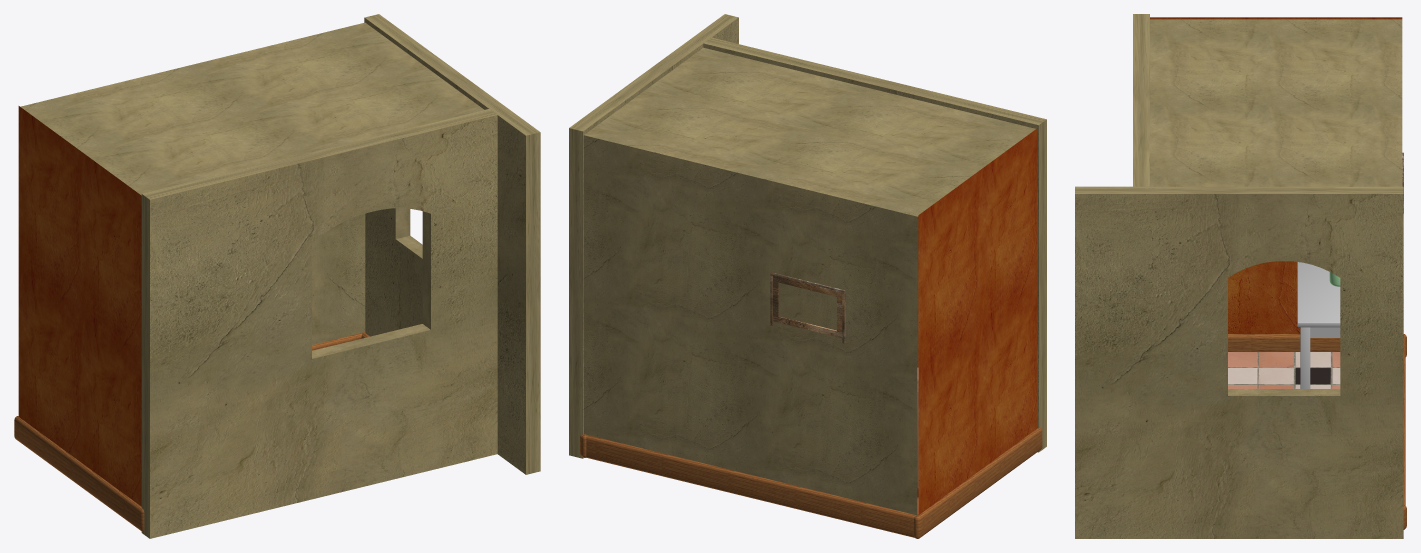
Rendered from Deadnature4.gltf.
The picture shows the model from 3 angles, left to right: view 1: azimuth 30°, elevation 25°; view 2: azimuth 150°, elevation 25°; view 3: azimuth 270°, elevation 25°; orthographic projection. The views are drawn at different scales.
Parts seen in each view (by area): view 1: Box010, Box001, Object022, Box003, ChamferBox008; view 2: Box001, Object022, Box003, ChamferBox006, Box010, ChamferBox008, Rectangle0; view 3: Box003, Box001, Object022, Floor, Box010, ChamferBox001, ChamferBox008, ChamferBox004, ChamferBox006.
Boxes of the visible parts, x1,y1,x2,y2 form: Box010: [141, 109, 497, 538]; Box001: [20, 22, 484, 344]; Object022: [18, 106, 141, 506]; Box003: [364, 14, 540, 474]; ChamferBox008: [14, 416, 144, 531]; Box001: [583, 47, 1035, 515]; Object022: [918, 128, 1037, 515]; Box003: [569, 14, 738, 458]; ChamferBox006: [580, 434, 916, 537]; Box010: [703, 37, 1046, 452]; ChamferBox008: [914, 427, 1042, 538]; Rectangle0: [772, 275, 842, 338]; Box003: [1075, 186, 1403, 538]; Box001: [1150, 19, 1402, 186]; Object022: [1150, 17, 1402, 333]; Floor: [1228, 352, 1340, 388]; Box010: [1133, 14, 1149, 186]; ChamferBox001: [1297, 262, 1340, 327]; ChamferBox008: [1228, 334, 1406, 356]; ChamferBox004: [1300, 327, 1310, 388]; ChamferBox006: [1403, 335, 1405, 529].
Bounding box in the file's own units: 247 × 220 × 192.
